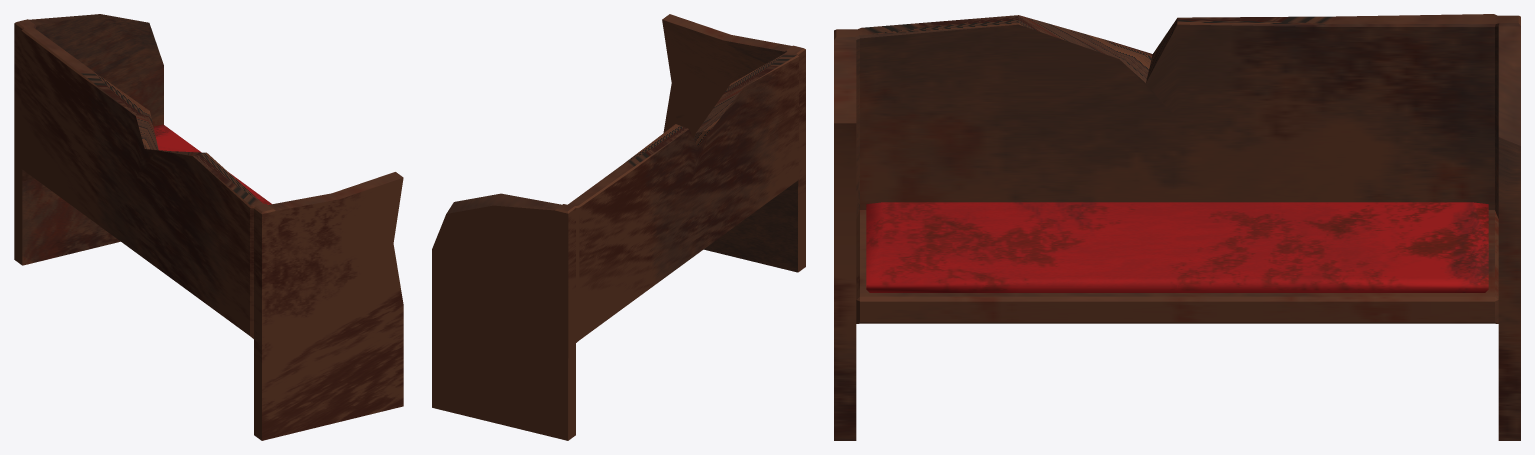
The model's file is damaged pew.fbx.
The picture shows the model from 3 angles, left to right: view 1: azimuth 30°, elevation 25°; view 2: azimuth 150°, elevation 25°; view 3: azimuth 270°, elevation 25°; orthographic projection. The views are drawn at different scales.
Visible parts, largest first — view 1: pew_damaged:pCube11; view 2: pew_damaged:pCube11; view 3: pew_damaged:pCube11.
Part boxes in pixels (x1,y1,x2,y2): pew_damaged:pCube11: [14, 14, 403, 440]; pew_damaged:pCube11: [432, 14, 805, 440]; pew_damaged:pCube11: [834, 14, 1520, 440].
Bounding box in the file's own units: 2.84 × 4.41 × 8.3.
Materials: 1 (1 with a texture image).
